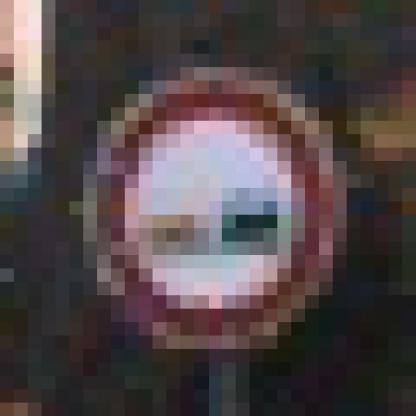No Overtaking: (84, 68, 348, 350)
